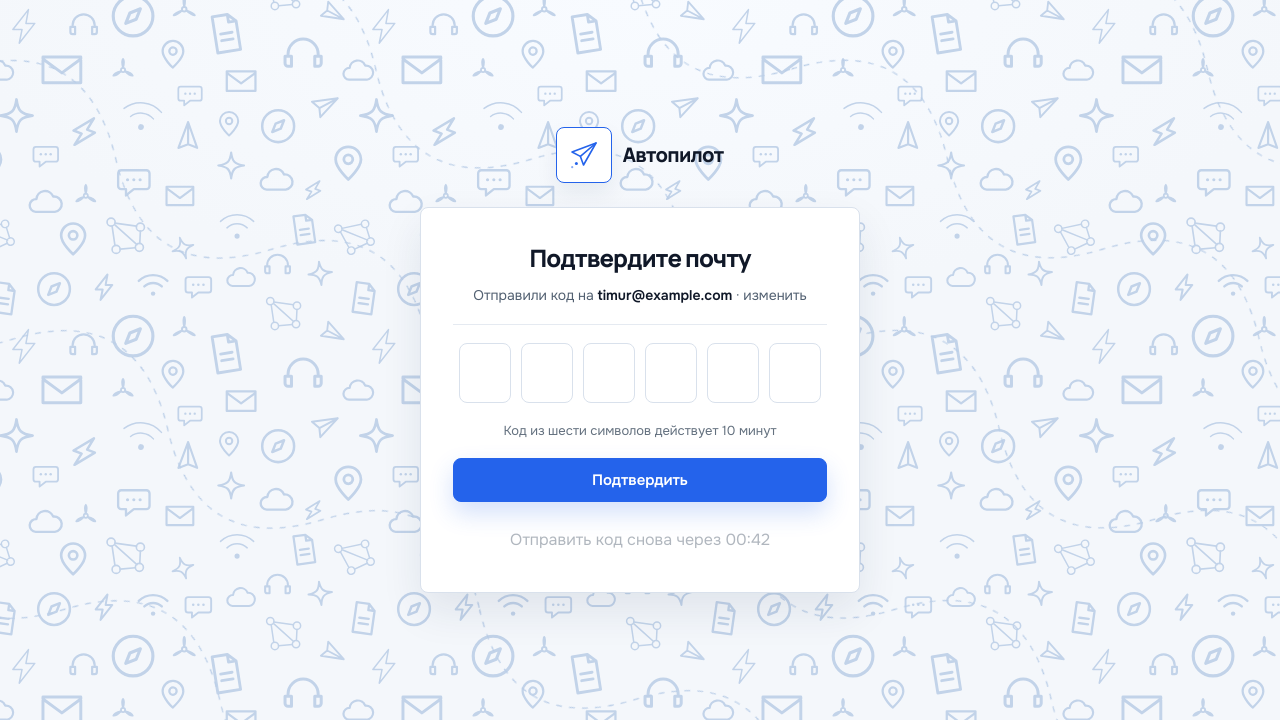
Scenario: VerifyEmailPage › does not silently confirm with a hidden development token
Click the button "Подтвердить" at (640, 480), box [453,458,827,502]
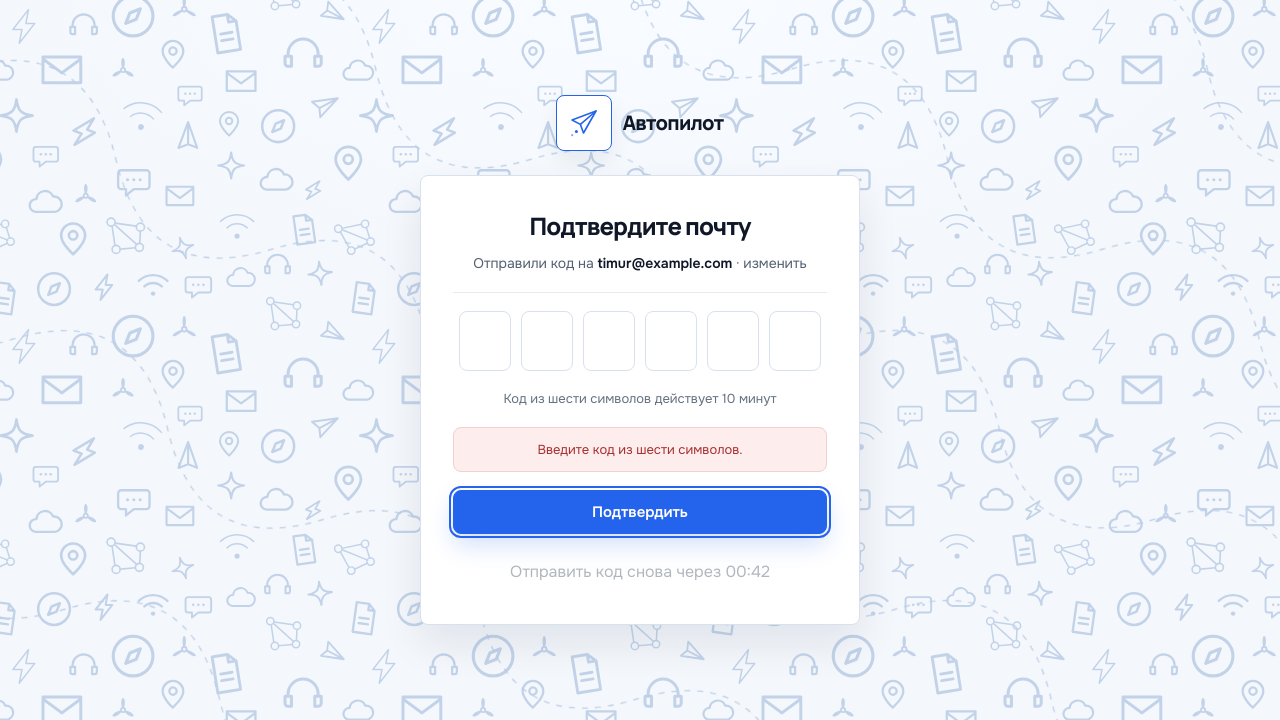
expect the message reads "Введите код из шести символов.": met, box [537,441,742,458]
